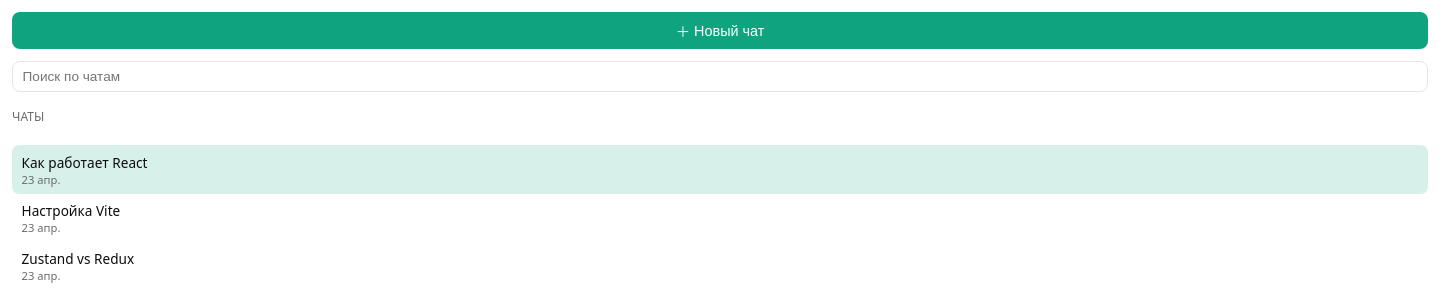
Test: Sidebar › filters chats by search query
Step 1. Type "React" into the search field labelled "Поиск по чатам" → (720, 77), box [12,61,1428,92]
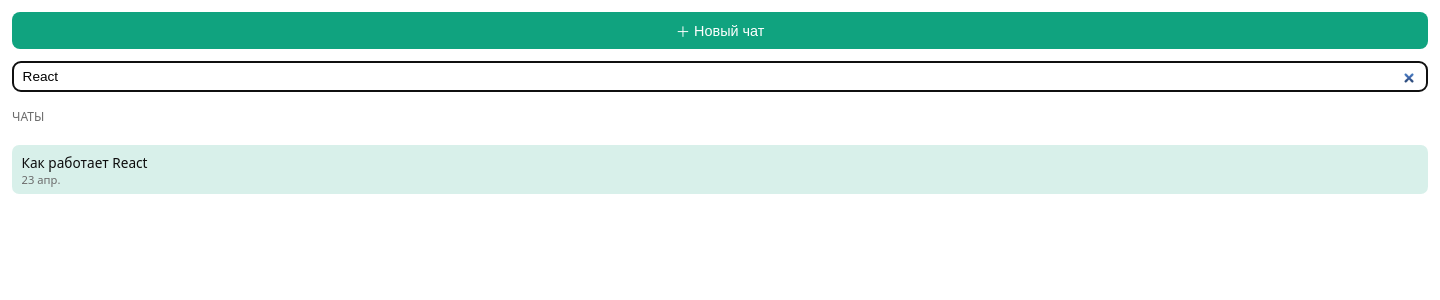
Expected: the text "Как работает React" is shown, [22,153,148,172]
Now the button "Настройка Vite" is gone
Now the button "Zustand vs Redux" is gone
